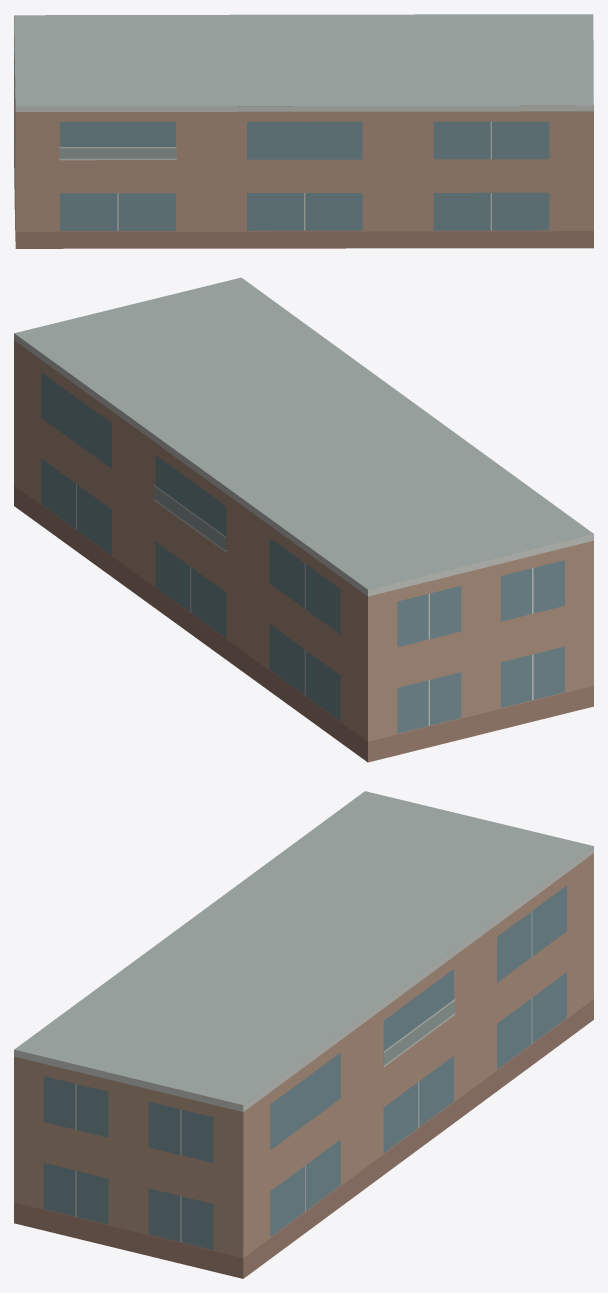
Rendered from survey-upis-33024488.glb.
The picture shows the model from 3 angles, top to bottom: view 1: azimuth 30°, elevation 25°; view 2: azimuth 150°, elevation 25°; view 3: azimuth 270°, elevation 25°; orthographic projection. The views are drawn at different scales.
Visible parts, largest first — view 1: survey-upis-33024488.tmp; view 2: survey-upis-33024488.tmp; view 3: survey-upis-33024488.tmp.
Part boxes in pixels (left/top/right/bottom): survey-upis-33024488.tmp: left=14, top=14, right=593, bottom=248; survey-upis-33024488.tmp: left=14, top=277, right=593, bottom=762; survey-upis-33024488.tmp: left=14, top=791, right=593, bottom=1278.
Size of the model in its own units: 23.67 by 6.1 by 18.47.
